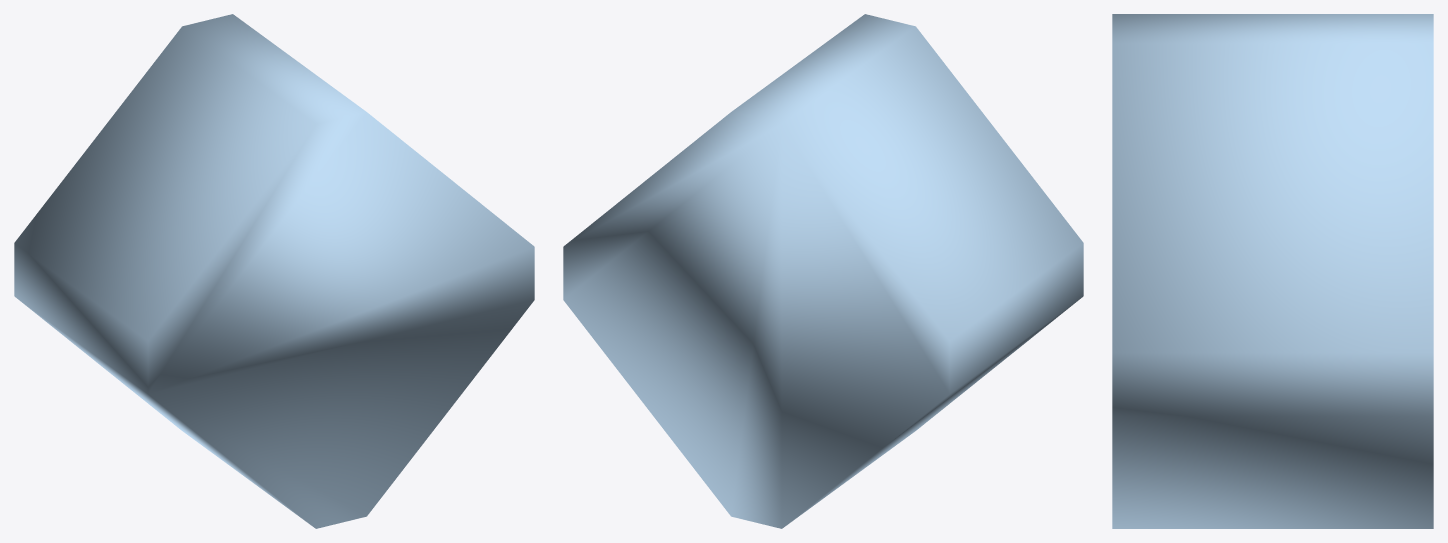
Rendered from vesuvianite.glb.
3 renders of one model, left to right at view 1: azimuth 30°, elevation 25°; view 2: azimuth 150°, elevation 25°; view 3: azimuth 270°, elevation 25°, orthographic. The views are drawn at different scales.
Parts seen in each view (by area): view 1: vesuvianite; view 2: vesuvianite; view 3: vesuvianite.
Boxes of the visible parts, <box> form: vesuvianite: <box>14,14,534,528</box>; vesuvianite: <box>563,14,1083,528</box>; vesuvianite: <box>1112,14,1433,528</box>.
Bounding box in the file's own units: 2 × 2 × 1.2.
